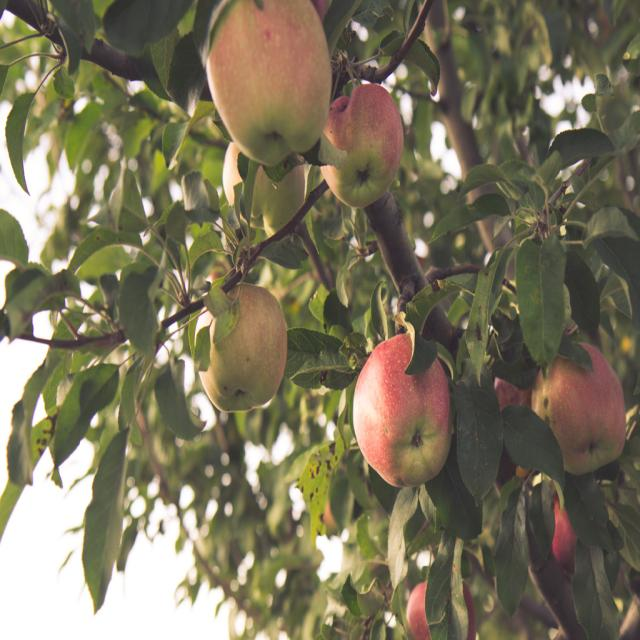Healty Apple: (212, 10, 334, 165), (354, 331, 456, 492), (193, 281, 290, 412), (533, 340, 622, 478), (316, 80, 404, 212), (222, 137, 306, 242), (403, 578, 478, 640), (552, 493, 582, 570), (490, 366, 536, 413)
